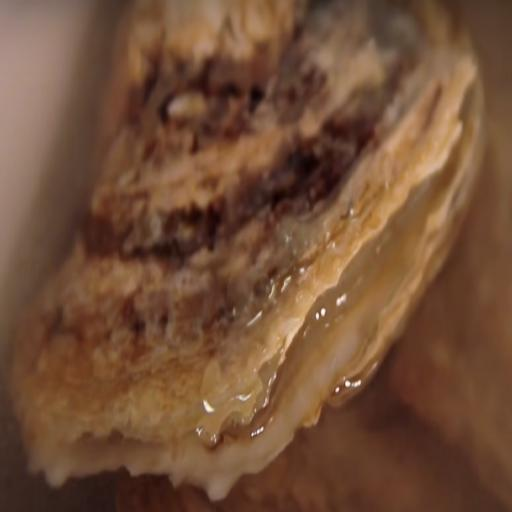Oyster-Closed: (384, 91, 512, 512)
Oyster-Open: (8, 1, 489, 502)
